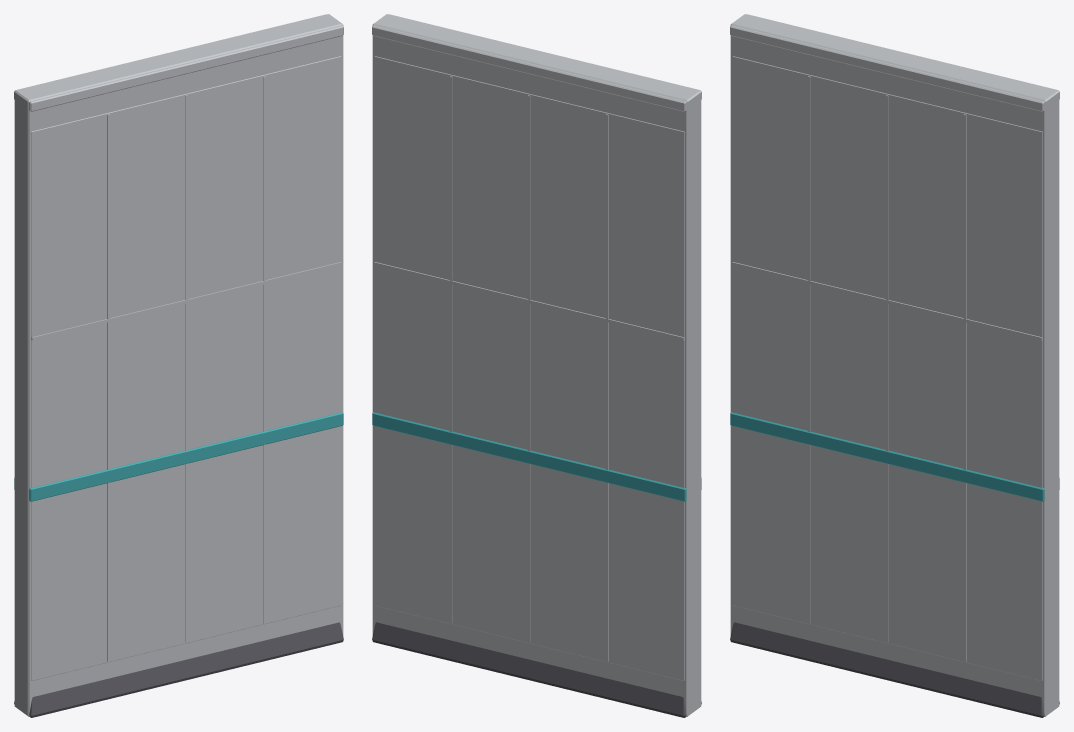
The model's file is pet-shop-and-grooming-salon-salon-wall-panel-module-74f2ea94__34603.glb.
3 renders of one model, left to right at view 1: azimuth 30°, elevation 25°; view 2: azimuth 150°, elevation 25°; view 3: azimuth 330°, elevation 25°, orthographic.
Visible parts, largest first — view 1: salon-wall-panel-module; view 2: salon-wall-panel-module; view 3: salon-wall-panel-module.
Part boxes in pixels (<box>): salon-wall-panel-module: <box>14,14,343,717</box>; salon-wall-panel-module: <box>372,14,701,717</box>; salon-wall-panel-module: <box>730,14,1059,717</box>.
Bounding box in the file's own units: 1.5 × 2.8 × 0.1461.
